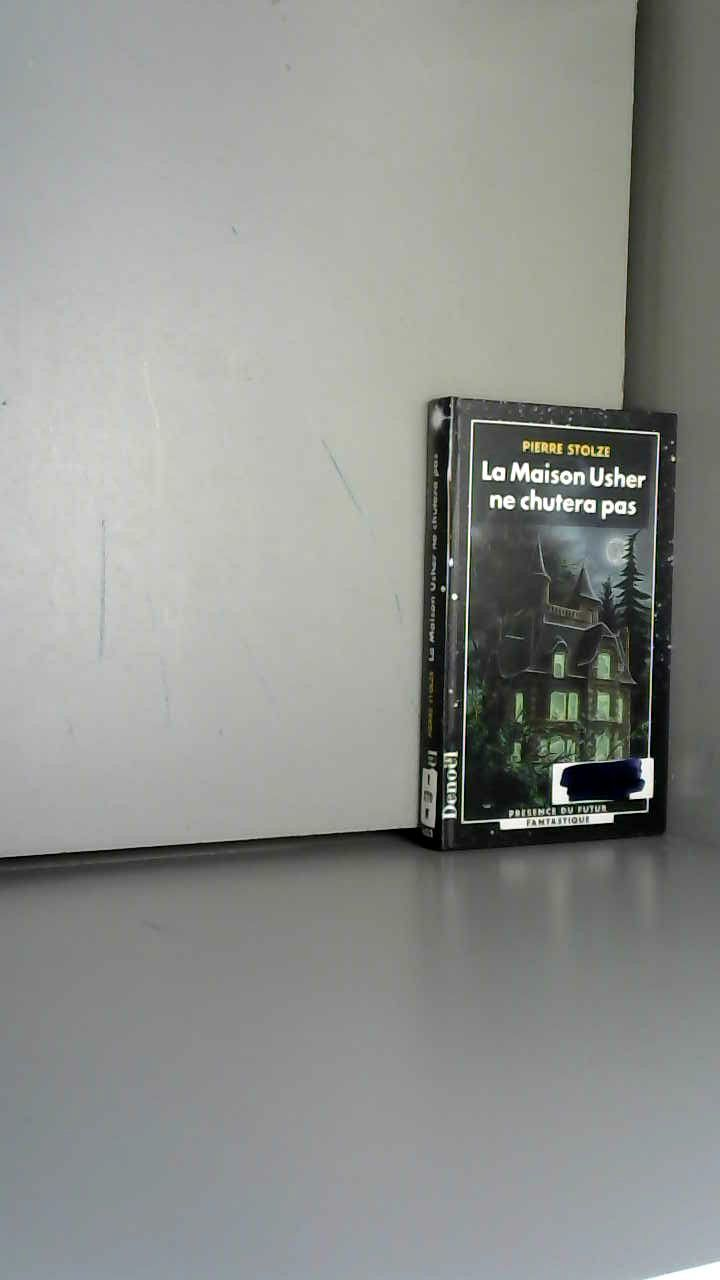book: (390, 370, 720, 876)
